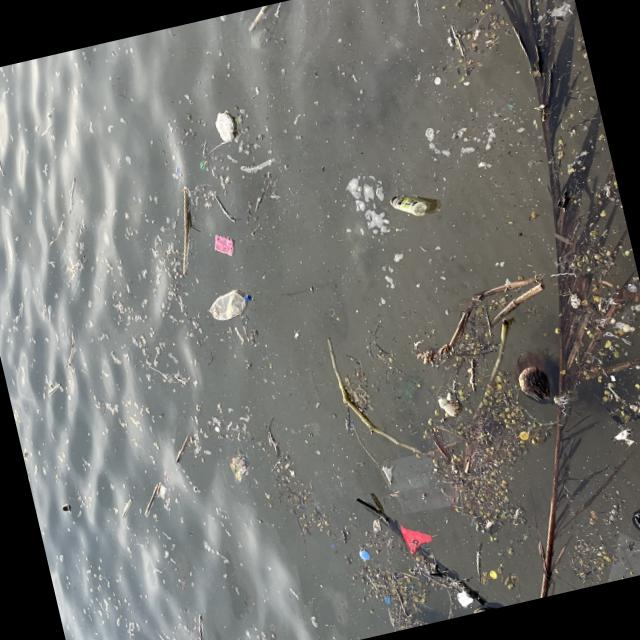foam: (214, 109, 240, 143), (455, 590, 475, 608)
plastic bottle: (205, 287, 258, 323), (389, 190, 429, 221), (436, 395, 462, 419)
